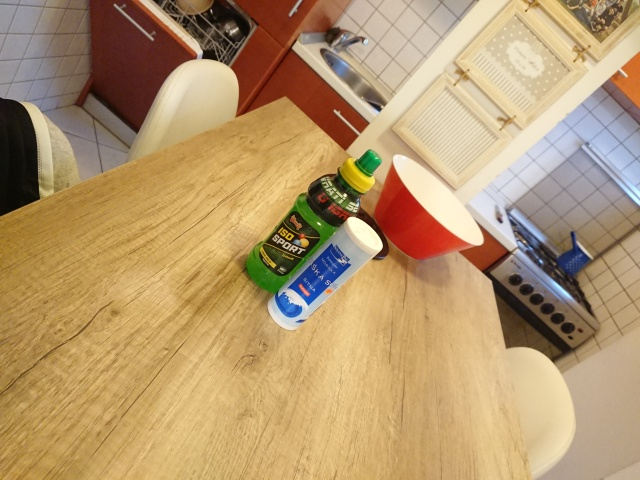Solana Pag Fine Sea Salt 250g: (266, 215, 385, 333)
Vindi Iso Sport Lemon-Grapefruit 500mL: (244, 147, 384, 296)
